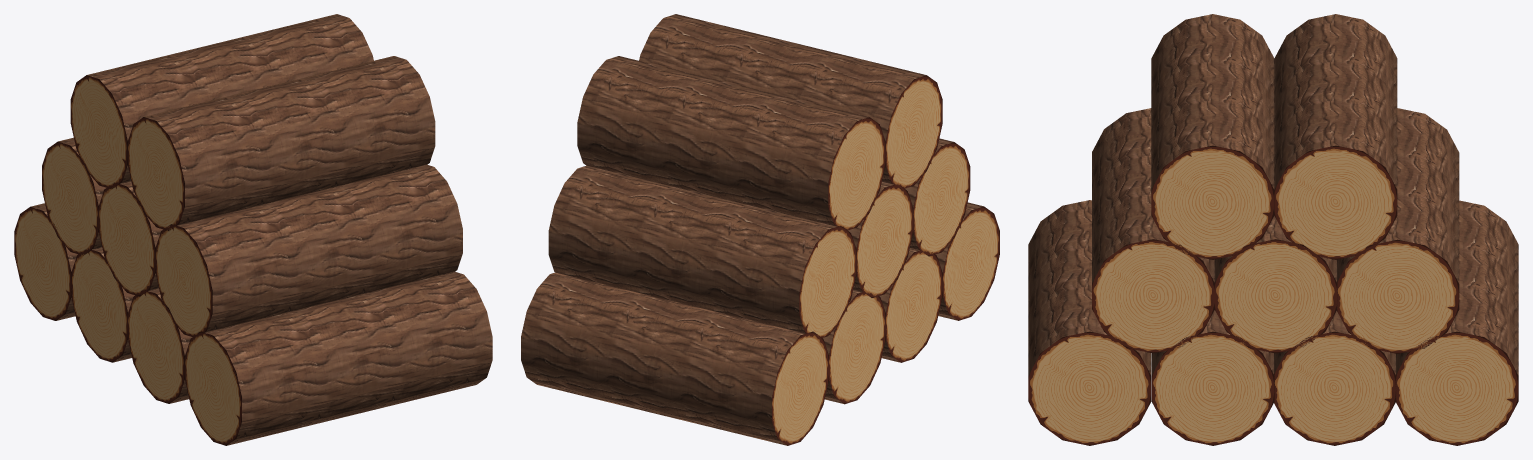
File: logs.fbx
The picture shows the model from 3 angles, left to right: view 1: azimuth 30°, elevation 25°; view 2: azimuth 150°, elevation 25°; view 3: azimuth 270°, elevation 25°; orthographic projection. The views are drawn at different scales.
Parts seen in each view (by area): view 1: polySurface5; view 2: polySurface5; view 3: polySurface5.
Boxes of the visible parts, left/top/right/bottom form: polySurface5: left=14, top=14, right=492, bottom=445; polySurface5: left=521, top=14, right=999, bottom=445; polySurface5: left=1028, top=14, right=1518, bottom=445.
Bounding box in the file's own units: 1.3 × 1.39 × 2.06.
20 materials, 20 textured.
